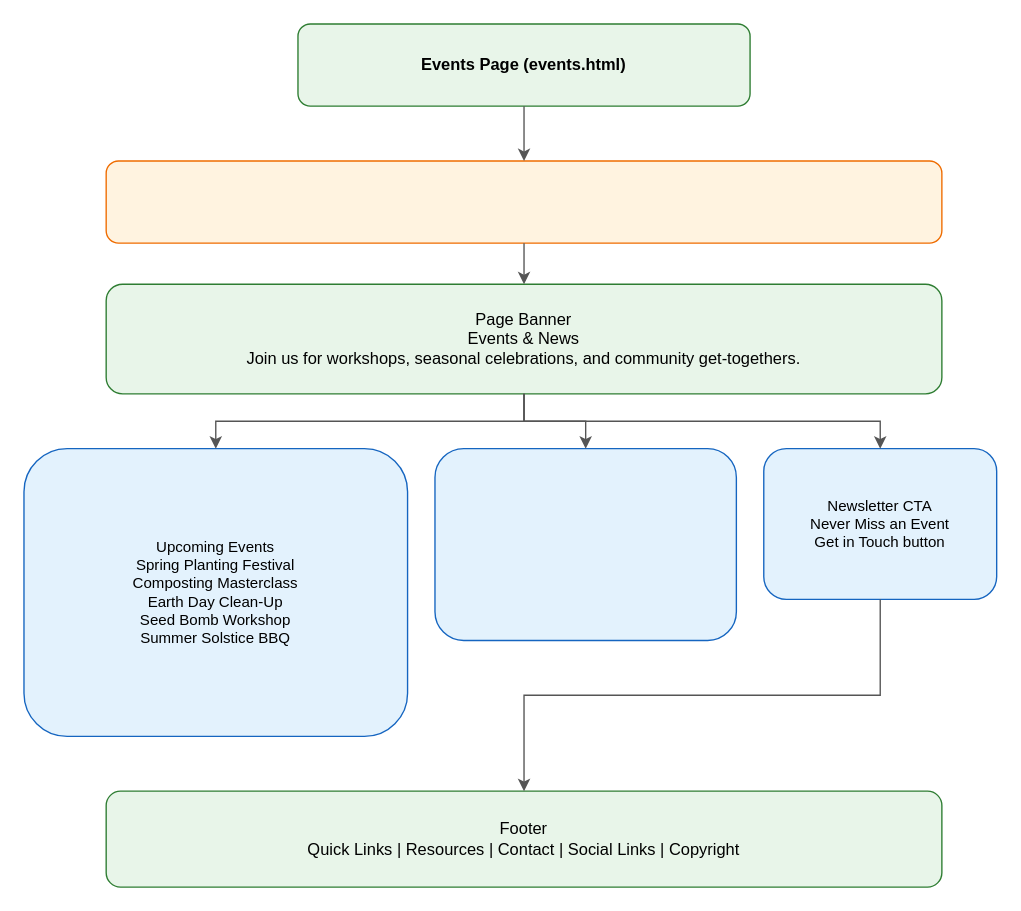
Image size: 1021x911. Some labels were removed from this diagram. The shapes that lost their labels are listed below. From the top down, each one's centre as x and y in pixels, then its label:
At pixel 523 201: "Navigation Bar Home | About | Programmes | Events | Gallery | Contact".
At pixel 585 543: "Past Events Winter Pruning Workshop Harvest Festival School Visit Programme".
